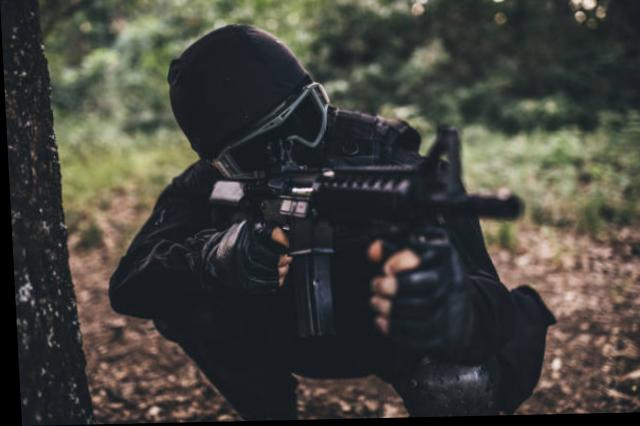other: (98, 17, 530, 422)
